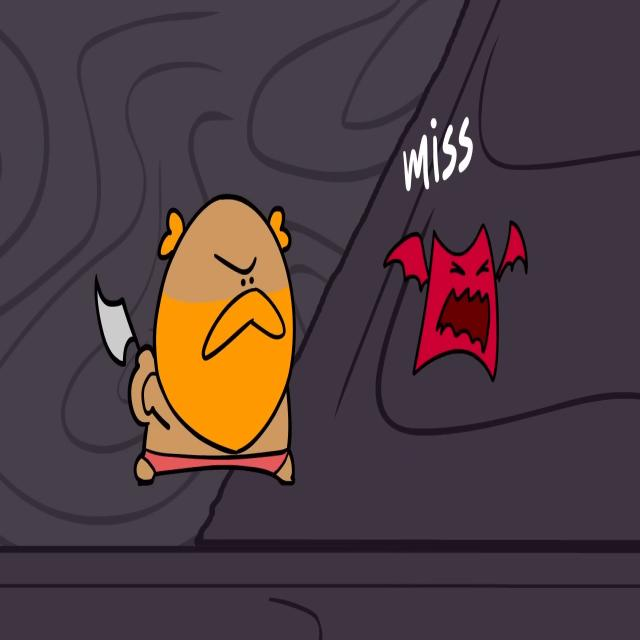Haagen-Daz: (126, 192, 298, 487)
